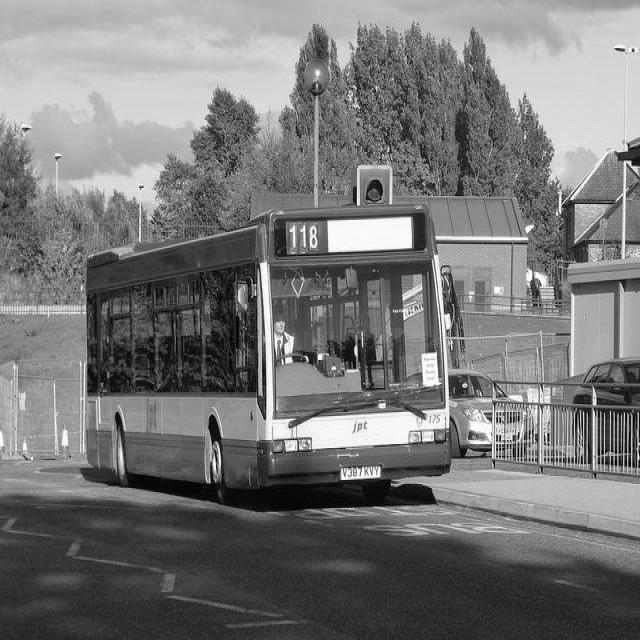vehicle: (87, 212, 451, 492), (406, 368, 536, 458), (572, 358, 640, 406)
